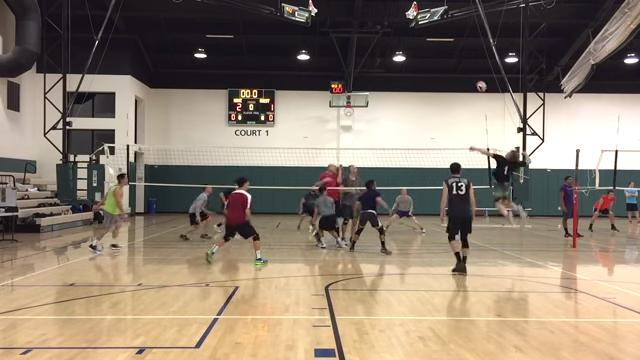attacco: (468, 139, 539, 232)
